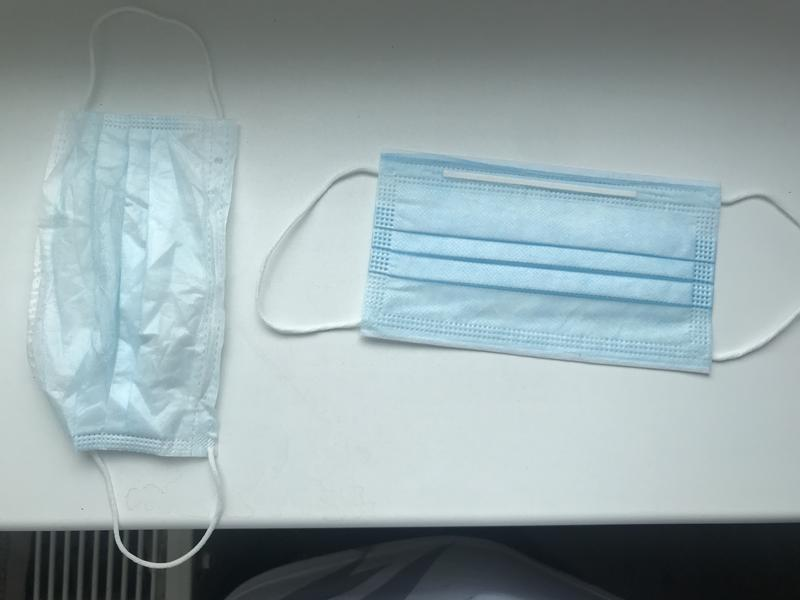medical_mask: (254, 150, 800, 373), (26, 6, 225, 572)
